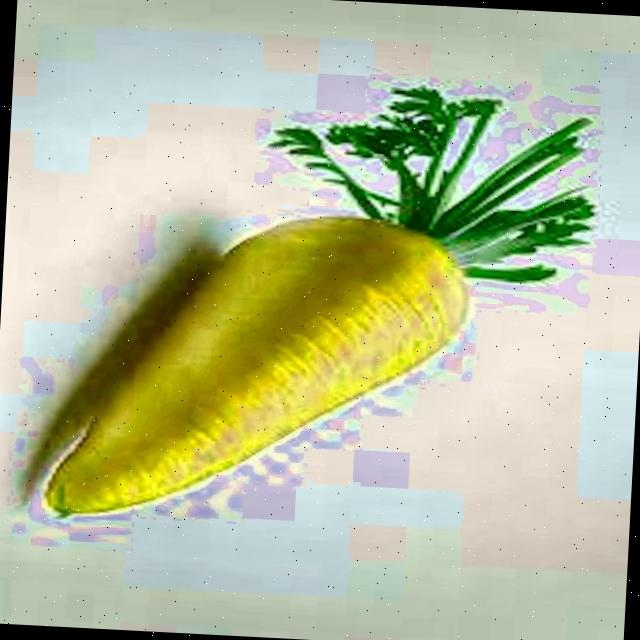carrot: (43, 86, 594, 517)
